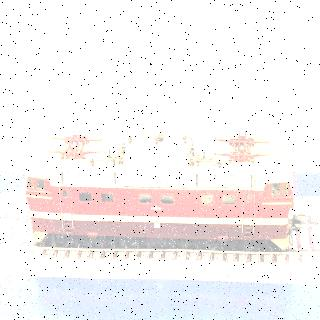poezd: (33, 130, 294, 248)
